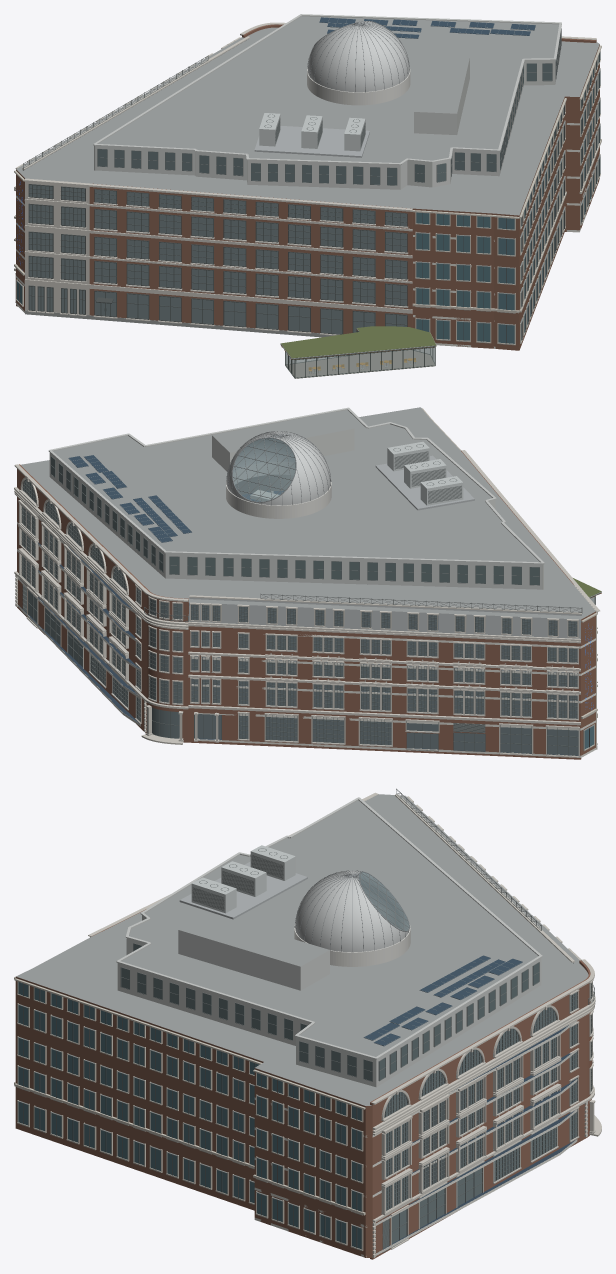
The model's file is lrb-exterior-9c8daed6923f.glb.
The picture shows the model from 3 angles, top to bottom: view 1: azimuth 30°, elevation 25°; view 2: azimuth 150°, elevation 25°; view 3: azimuth 270°, elevation 25°; orthographic projection. The views are drawn at different scales.
Parts seen in each view (by area): view 1: LRB.001; view 2: LRB.001; view 3: LRB.001.
Part boxes in pixels (box(x1,y1,x2,y2)): LRB.001: box(14, 14, 601, 378); LRB.001: box(14, 407, 601, 759); LRB.001: box(14, 788, 601, 1259).
Bounding box in the file's own units: 89.68 × 33.13 × 70.98.
